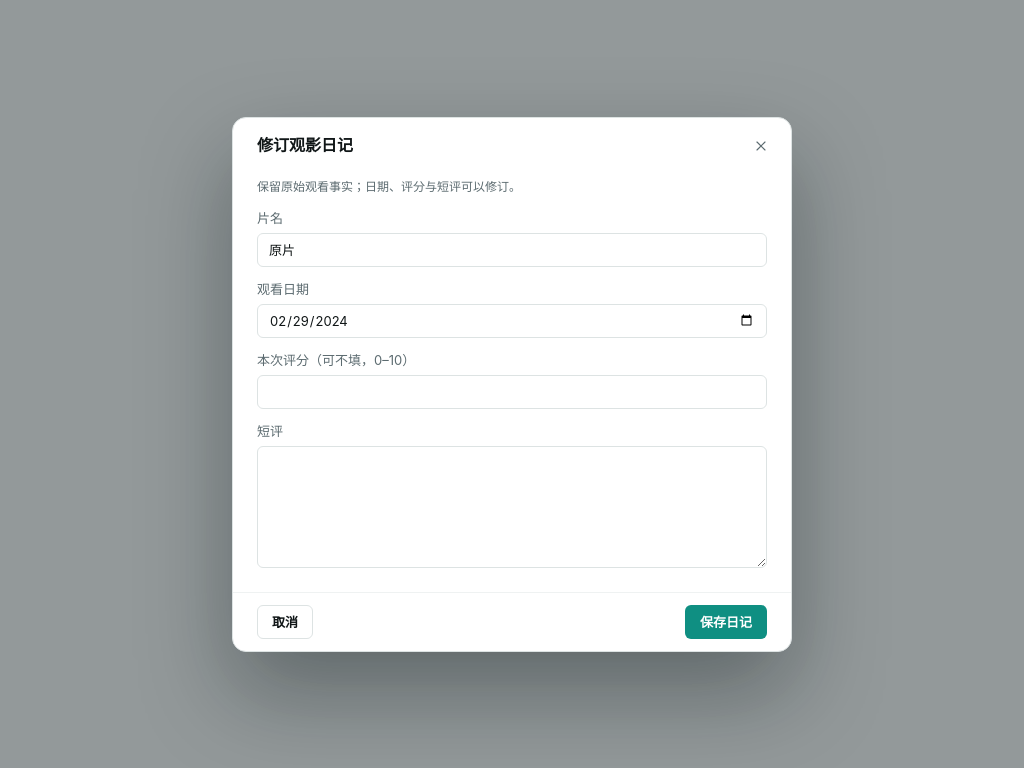
Test: DiaryEditor › keeps immutable linkage and optimistic revision, with a recoverable save error
Type "重看笔记" into the text box with test id "diary-note".
click(512, 506); type("重看笔记")  # box x1=257 y1=446 x2=767 y2=568
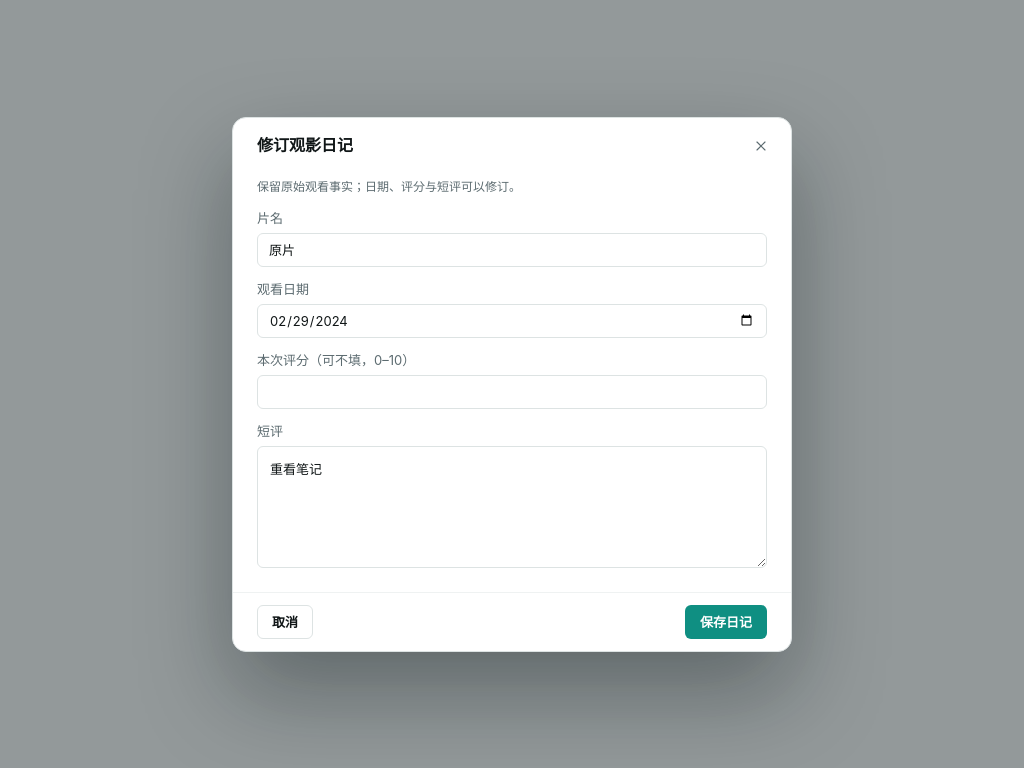
Submit the form, box x1=257 y1=170 x2=767 y2=568
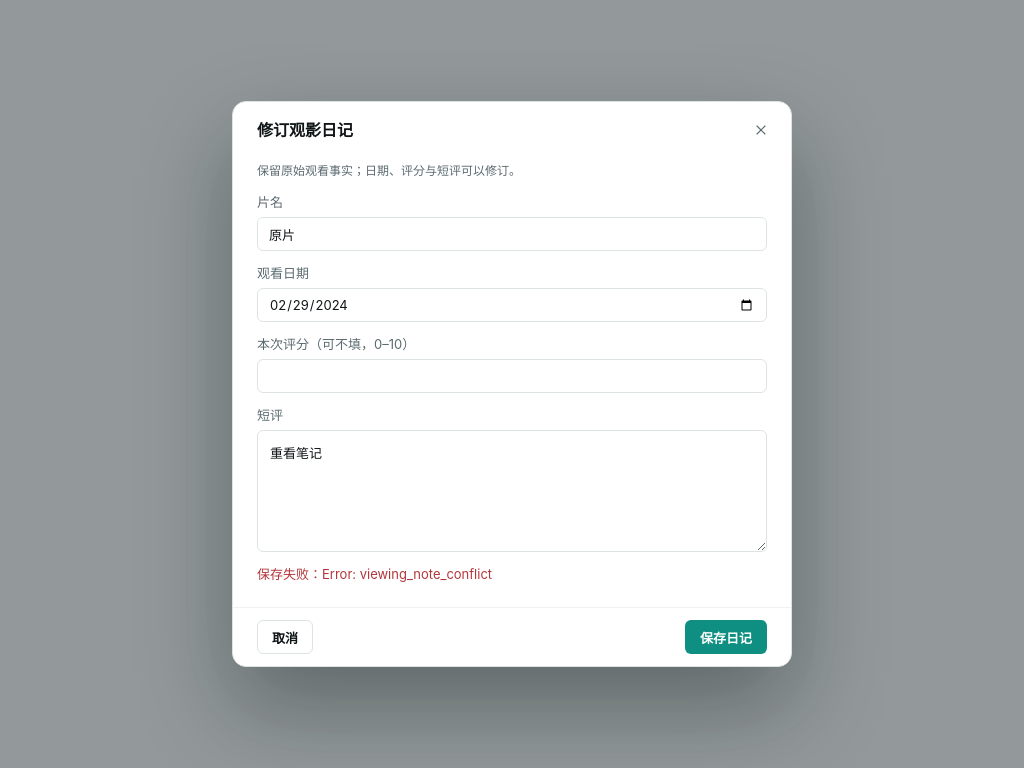
Check: the text "viewing_note_conflict" is shown, box x1=257 y1=566 x2=492 y2=582
